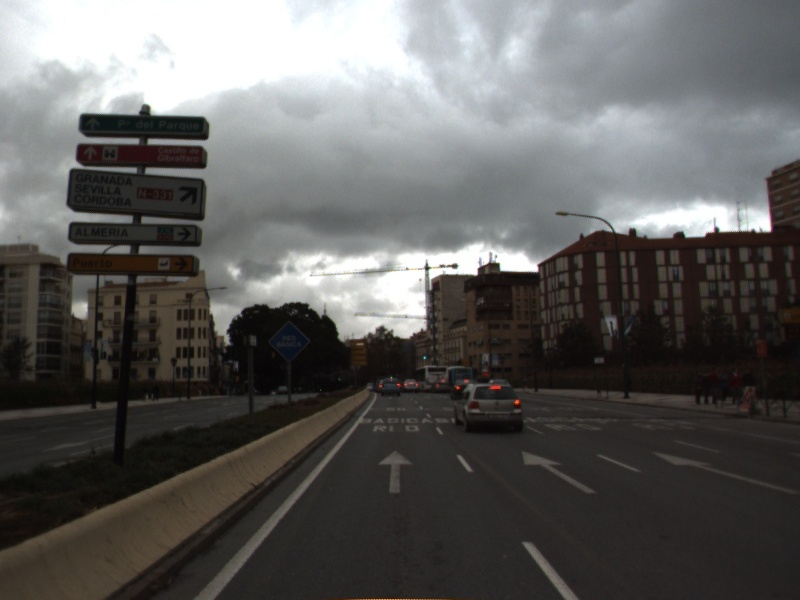STRAIGHT: (651, 450, 800, 496), (519, 449, 600, 496), (375, 448, 416, 495)
